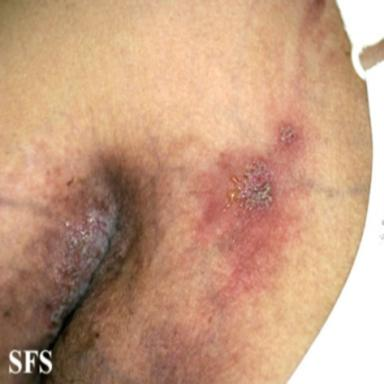Hailey-Hailey-Disease: (49, 195, 117, 338), (227, 159, 273, 212), (279, 126, 295, 145)
